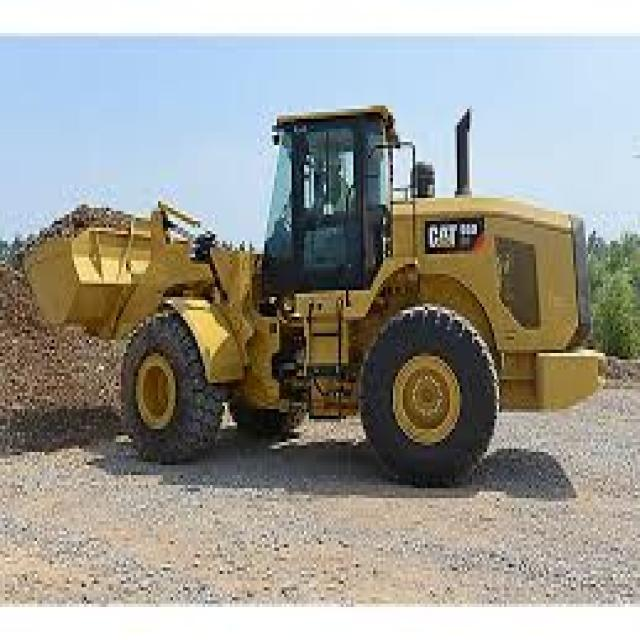buldozerpayloadergrader: (17, 100, 613, 490)
